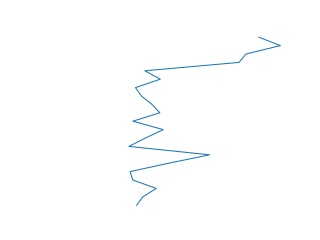crevasseRiverChannelBar: (122, 34, 287, 212)
